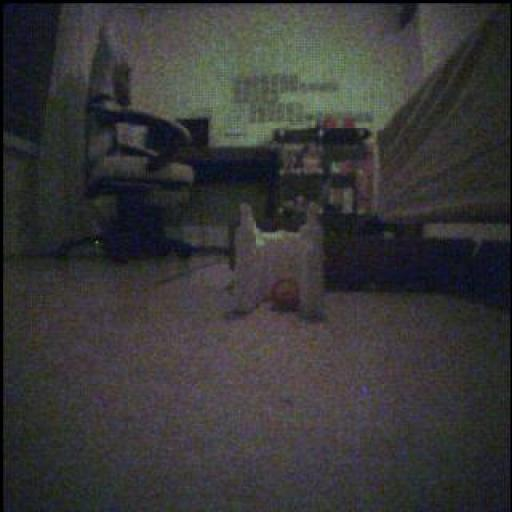basket: (271, 276, 302, 311)
